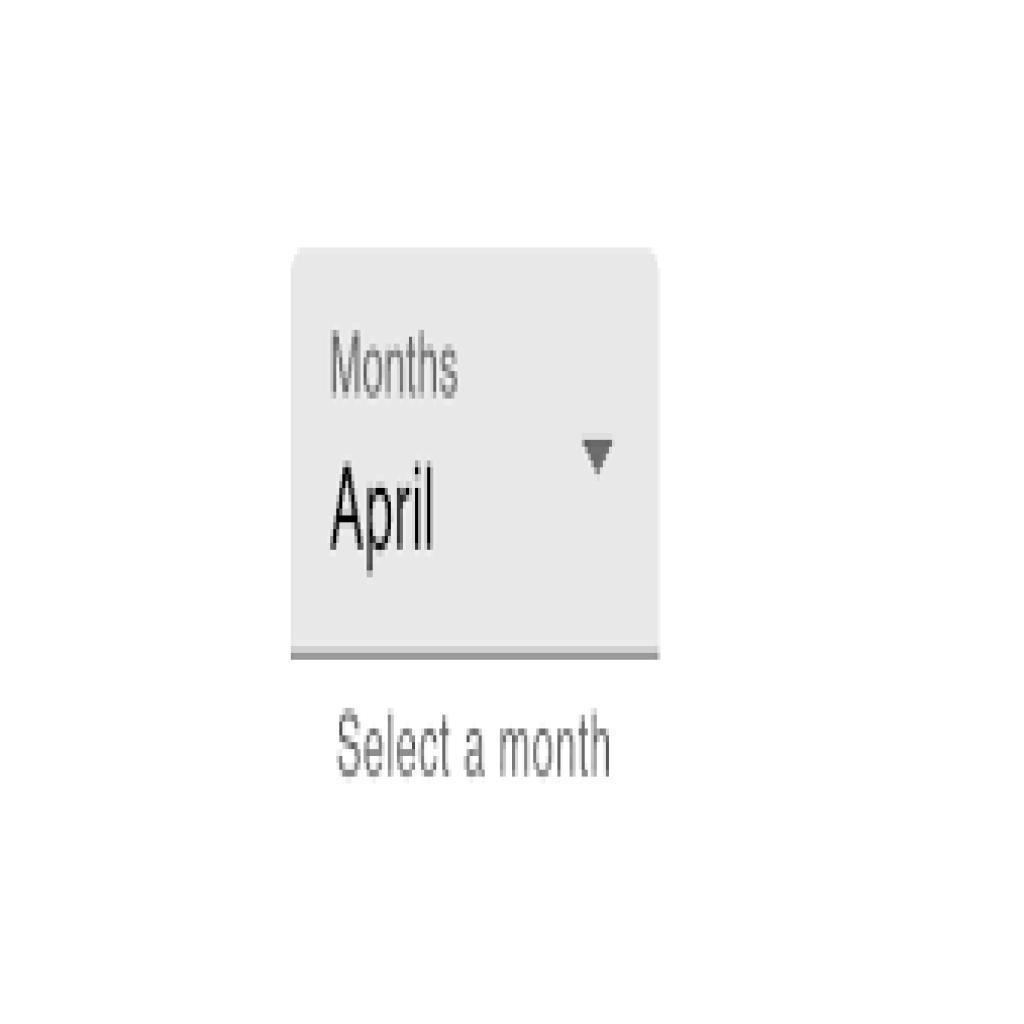dropdown: (294, 246, 660, 659)
